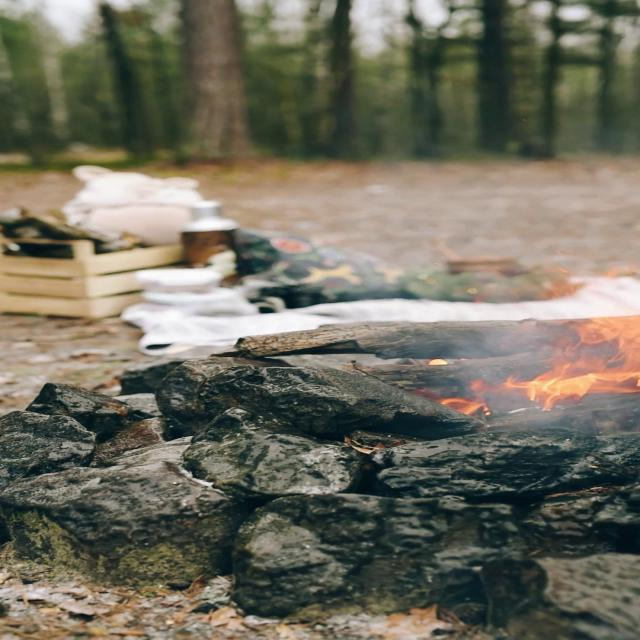Fire: (492, 292, 640, 418)
